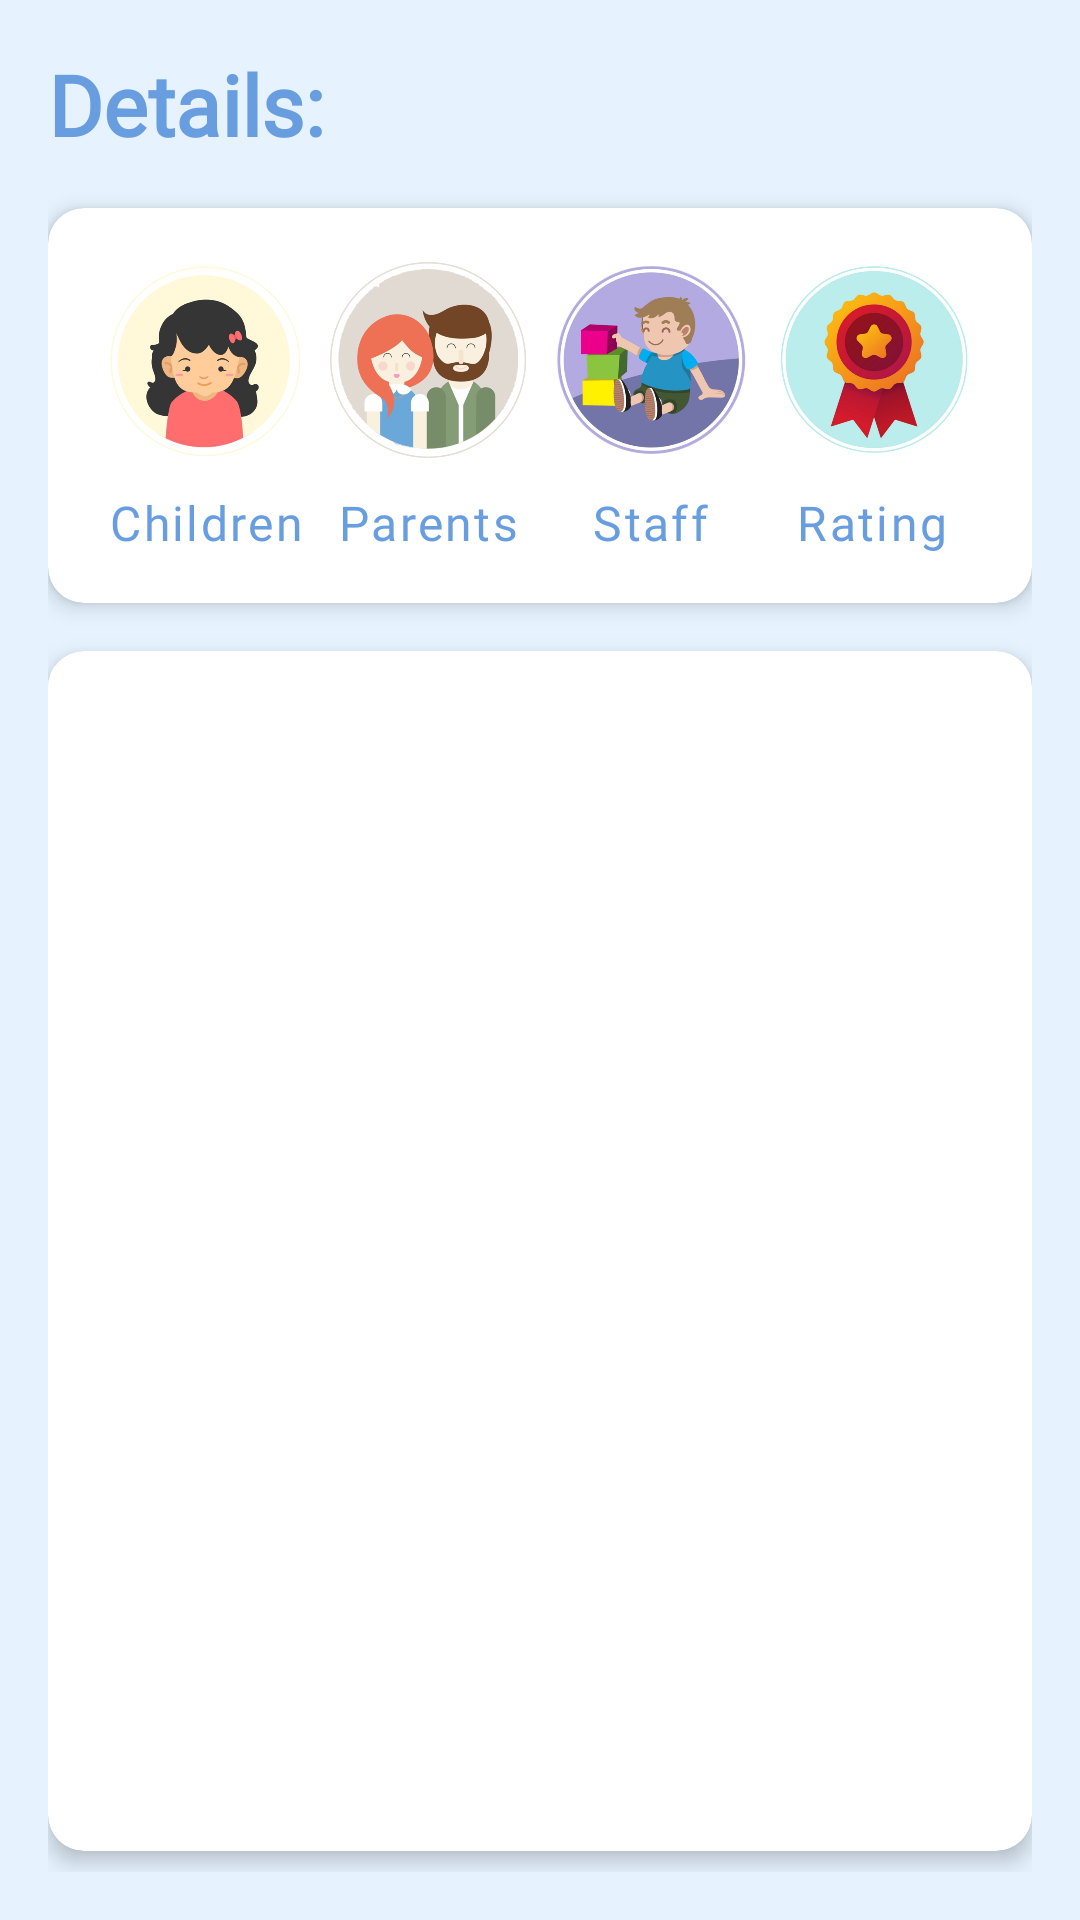

Icons on this 1080 x 1920 Android screen, each with its box as (x1=x1, y1=y1, x2=x2, y2=y2):
kindergarten: (x1=557, y1=266, x2=745, y2=454)
